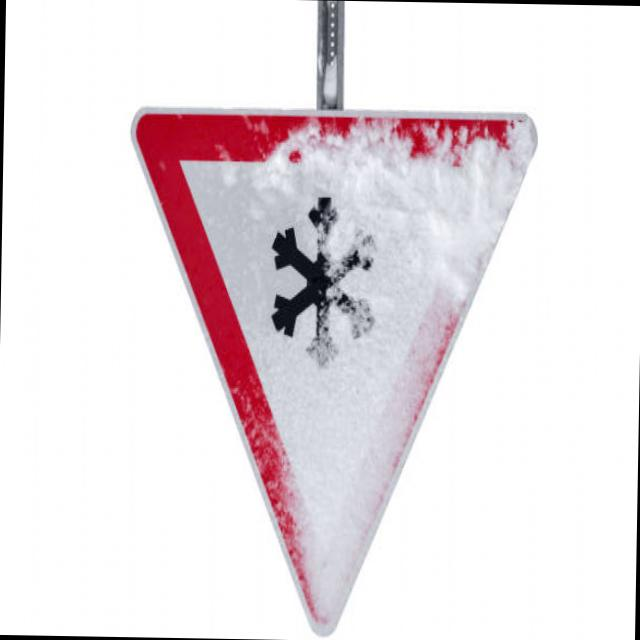snow_warning: (121, 88, 542, 640)
